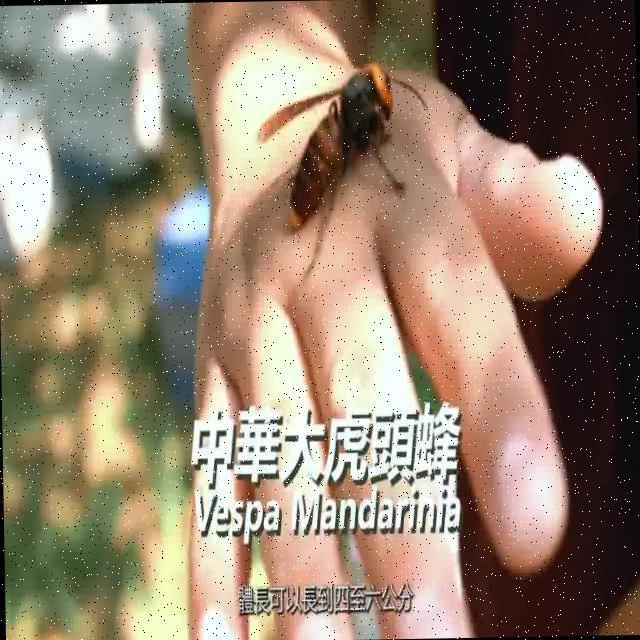Wasp: (256, 50, 426, 252)
